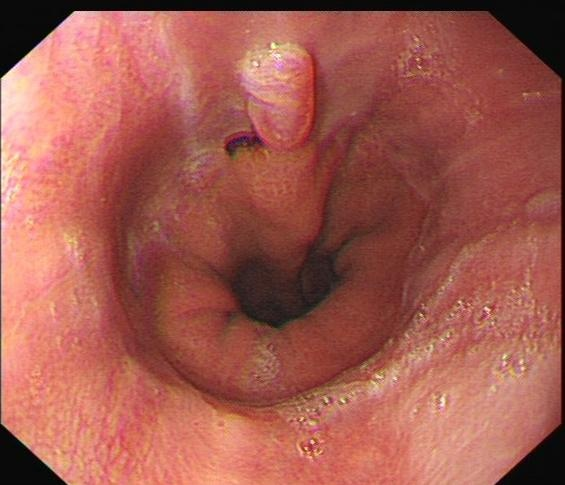Polyp: (223, 42, 321, 144)
